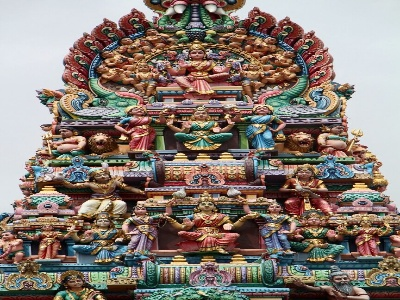gopura: (14, 2, 395, 282)
